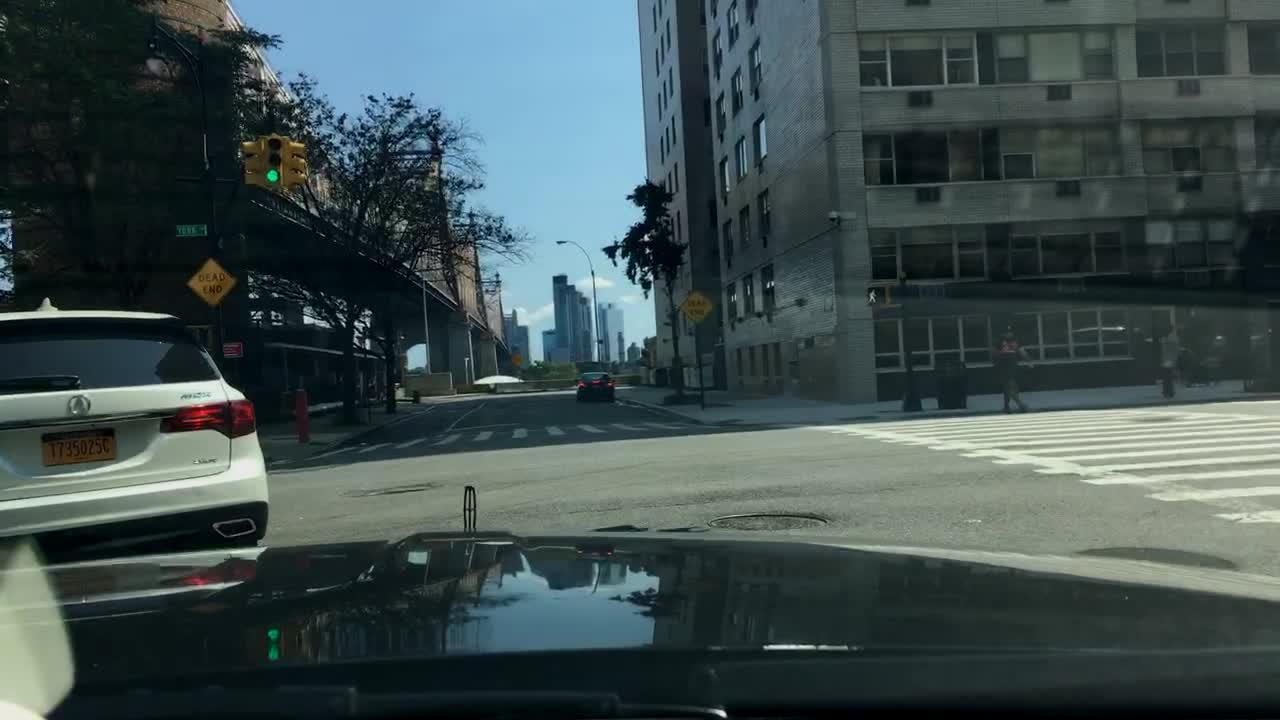acura: (63, 392, 97, 416)
lincoln: (455, 478, 486, 538)
